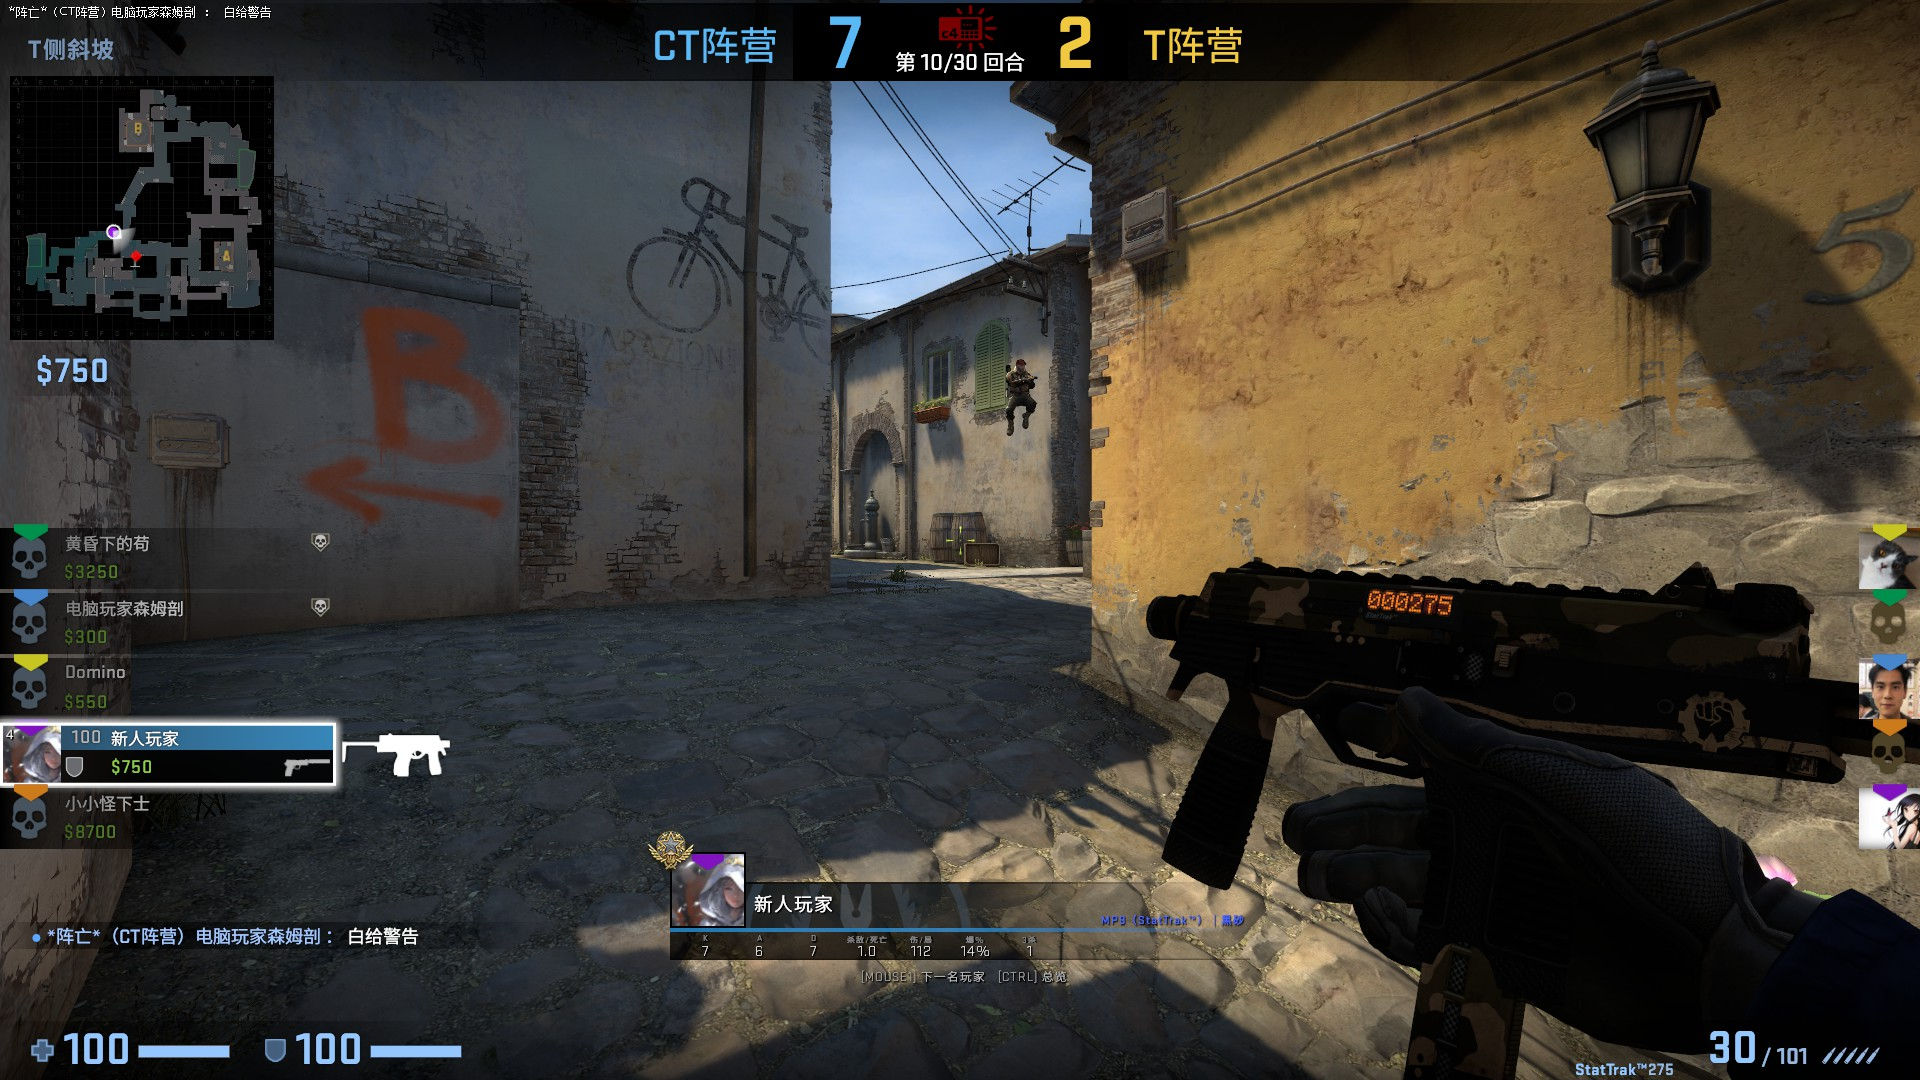head: (1013, 357, 1027, 373)
